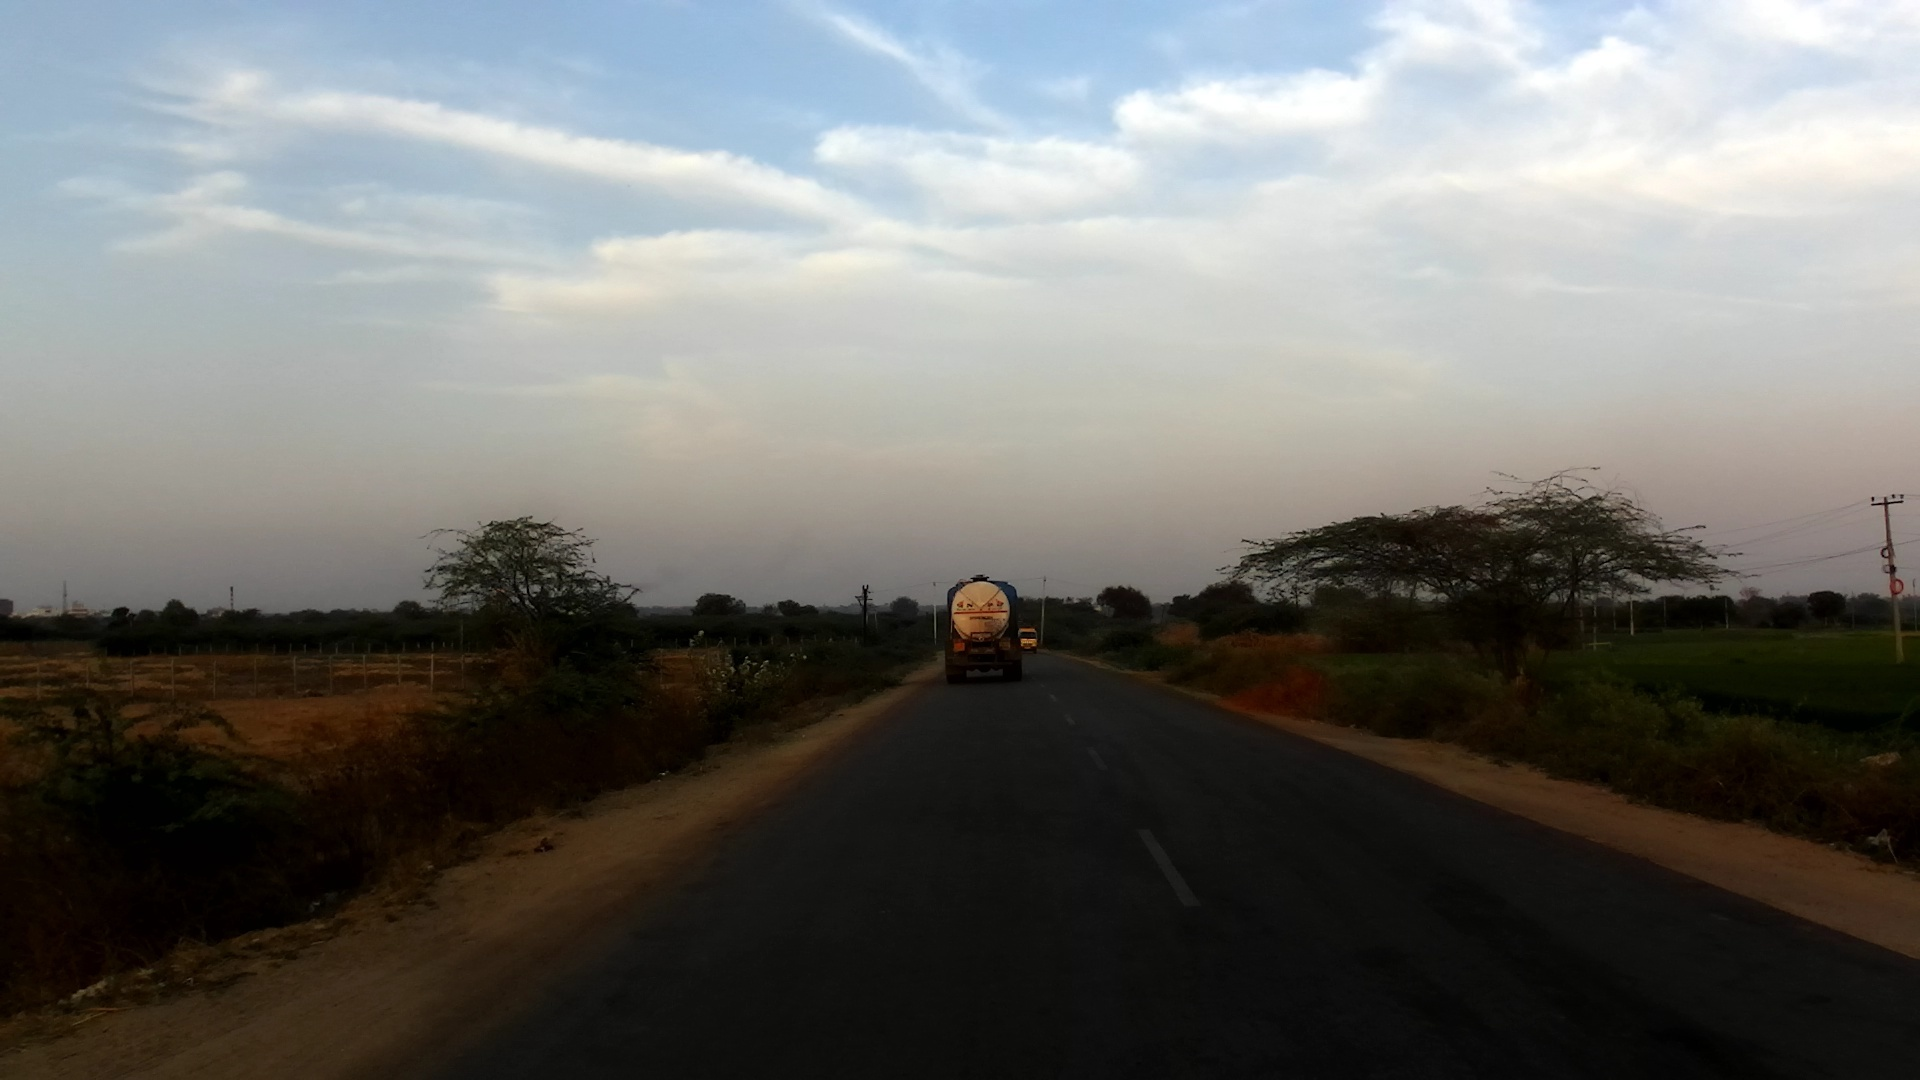car: (1013, 626, 1040, 654)
truck: (938, 575, 1026, 687)
